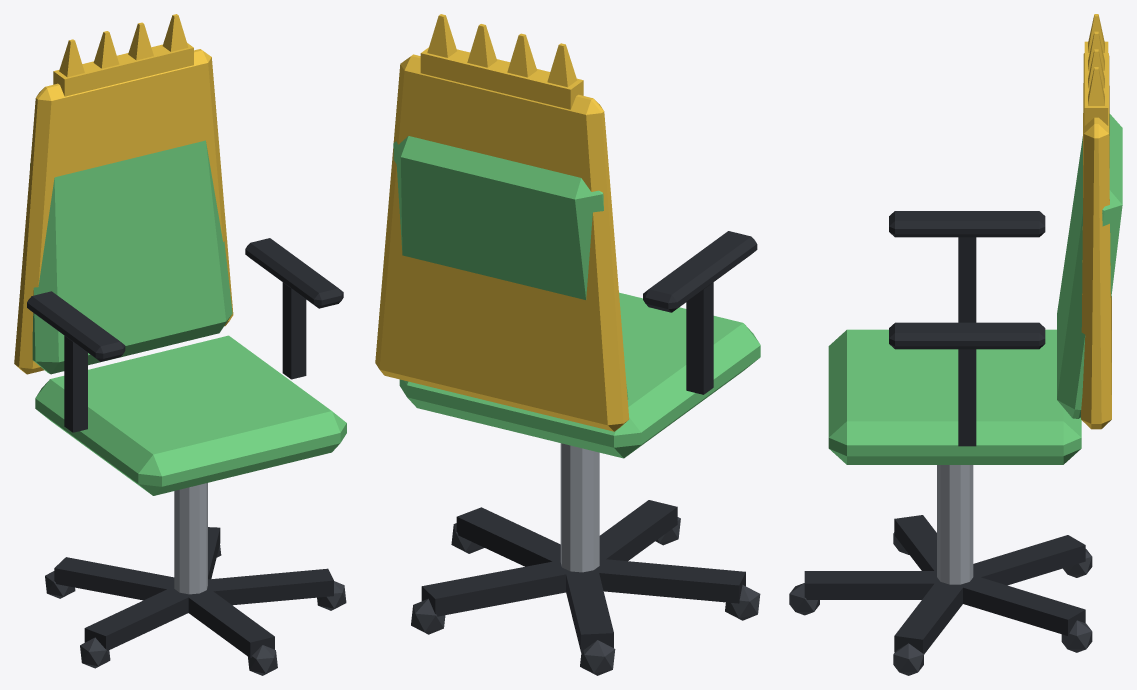
The model's file is chair_p2_4.glb.
3 views of the same model, side by side, from view 1: azimuth 30°, elevation 25°; view 2: azimuth 150°, elevation 25°; view 3: azimuth 270°, elevation 25° (orthographic). The views are drawn at different scales.
Visible parts, largest first — view 1: chair_p2_4_mesh; view 2: chair_p2_4_mesh; view 3: chair_p2_4_mesh.
Boxes of the visible parts, bbox=[...] form: chair_p2_4_mesh: bbox=[14, 14, 346, 675]; chair_p2_4_mesh: bbox=[375, 14, 760, 675]; chair_p2_4_mesh: bbox=[789, 14, 1122, 675].
Bounding box in the file's own units: 0.6086 × 1.21 × 0.6368.
